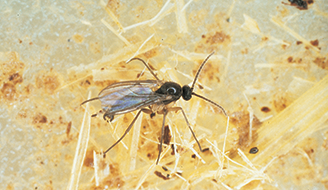Fruit fly: (81, 49, 214, 157)
